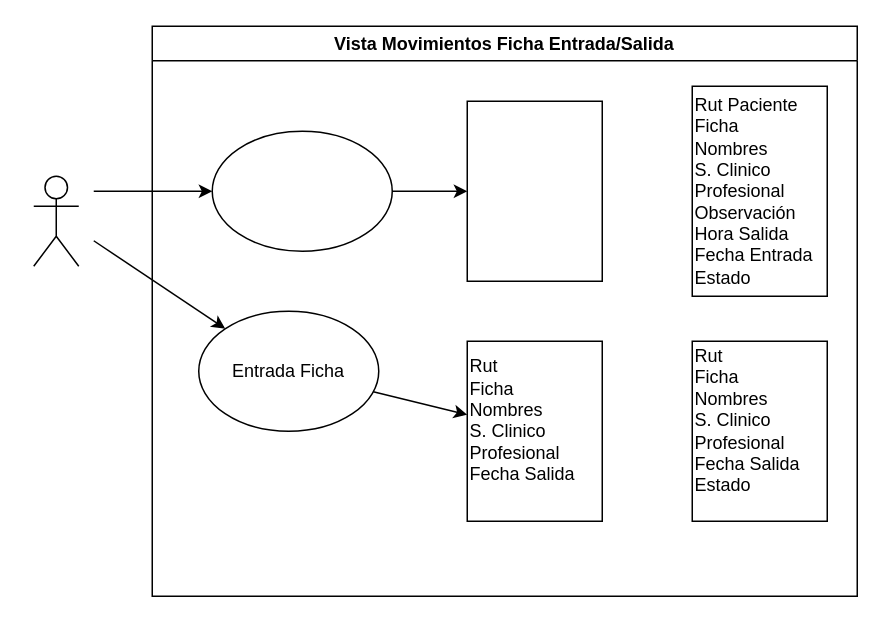
The diagram is 884 pixels wide and 623 high, and some of its shapes have lost their labels. Each missing label, with the box of its shape:
Salida Ficha: (211, 130, 392, 251)
Servicio Clinico Profesional Rut Paciente Ficha Nombres Observación: (466, 100, 602, 281)
Usuario: (32, 175, 79, 266)
